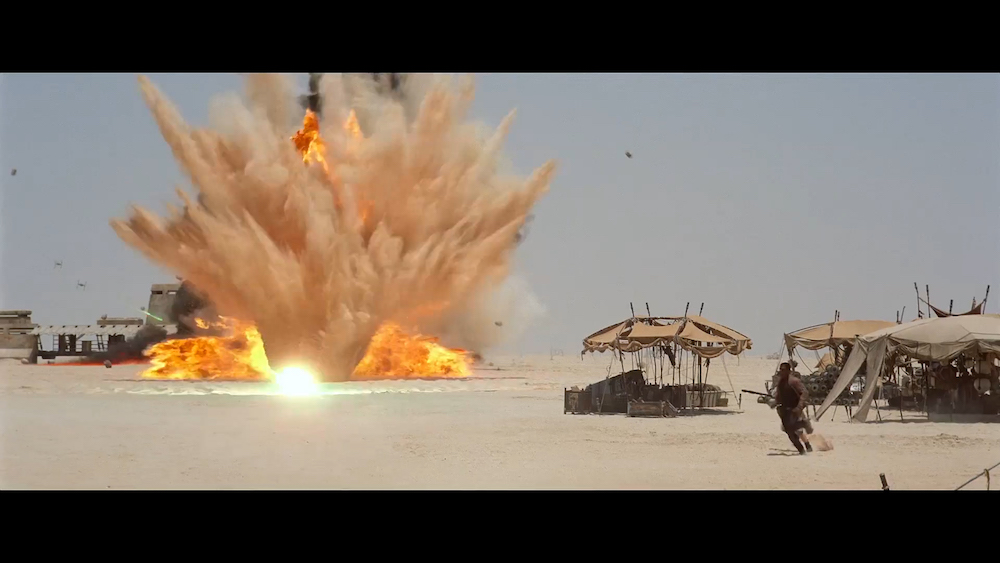Tie Fighter: (78, 281, 87, 291), (55, 261, 63, 269)
